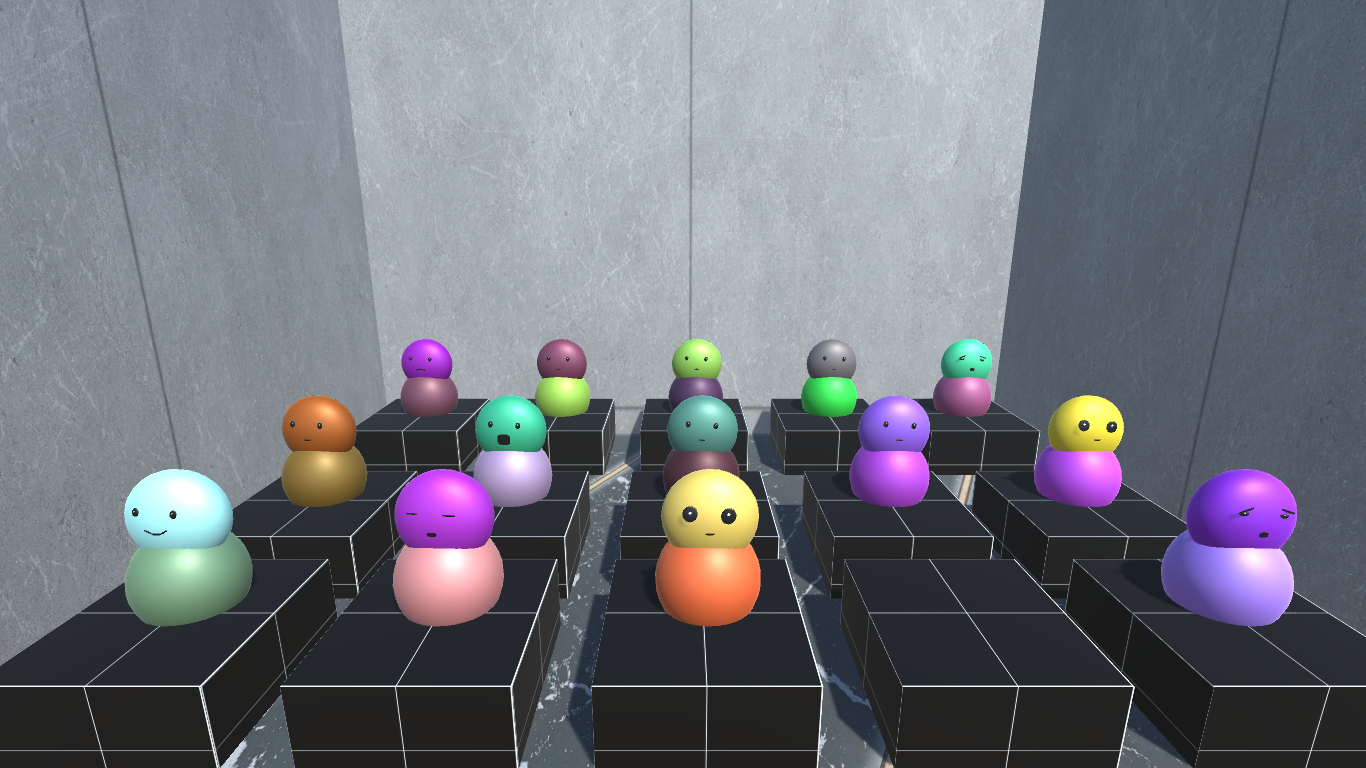blob_atento: (642, 463, 767, 628), (1031, 400, 1136, 511)
blob_dormindo: (387, 470, 519, 633)
blob_entediado: (1155, 465, 1302, 631), (934, 336, 992, 426)
blob_feliz: (119, 461, 252, 634)
blob_normal: (276, 393, 373, 507), (849, 394, 928, 515), (660, 392, 741, 503), (528, 341, 593, 415), (798, 334, 854, 418), (668, 338, 726, 413)
blob_surpreso: (471, 398, 551, 508)
blob_triste: (396, 339, 465, 417)
